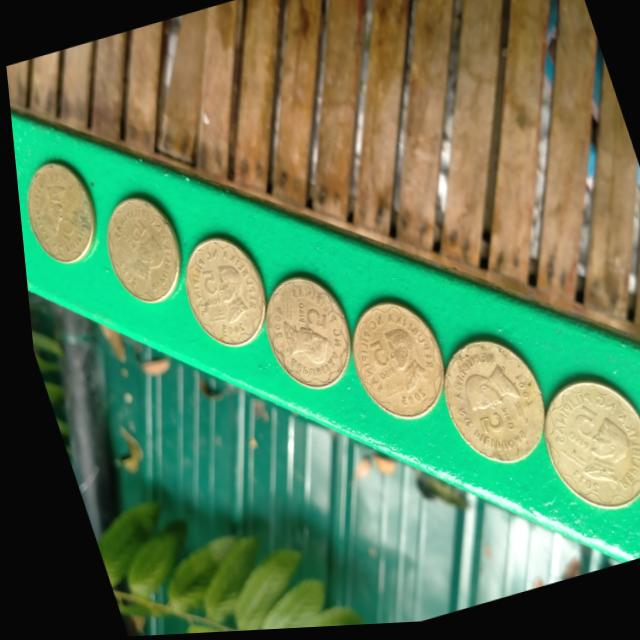5_Old_Front: (435, 356, 536, 466), (544, 393, 640, 504), (247, 278, 342, 388)
